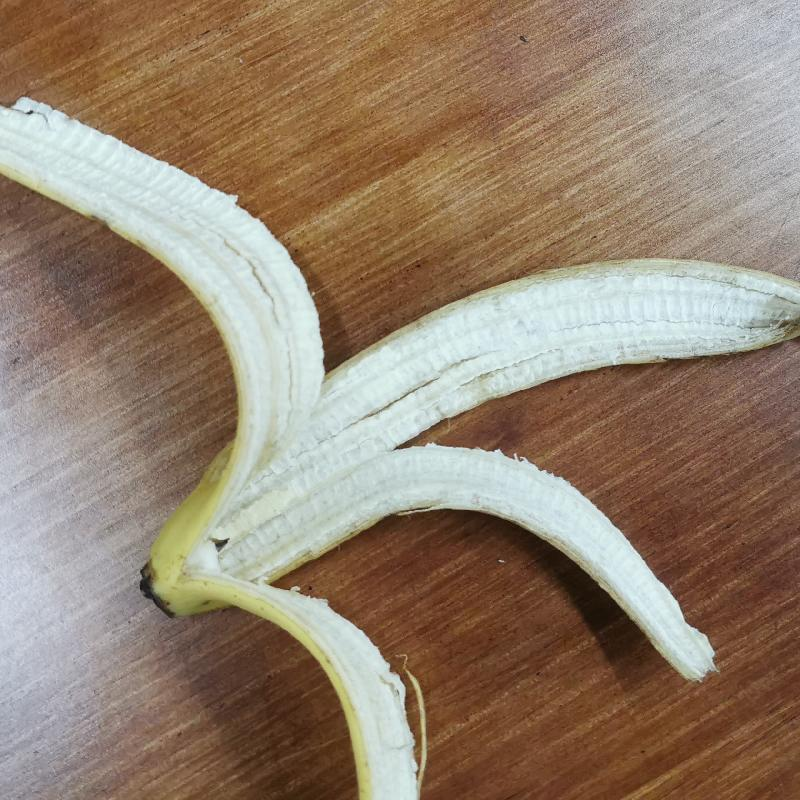bananas: (6, 55, 799, 799)
